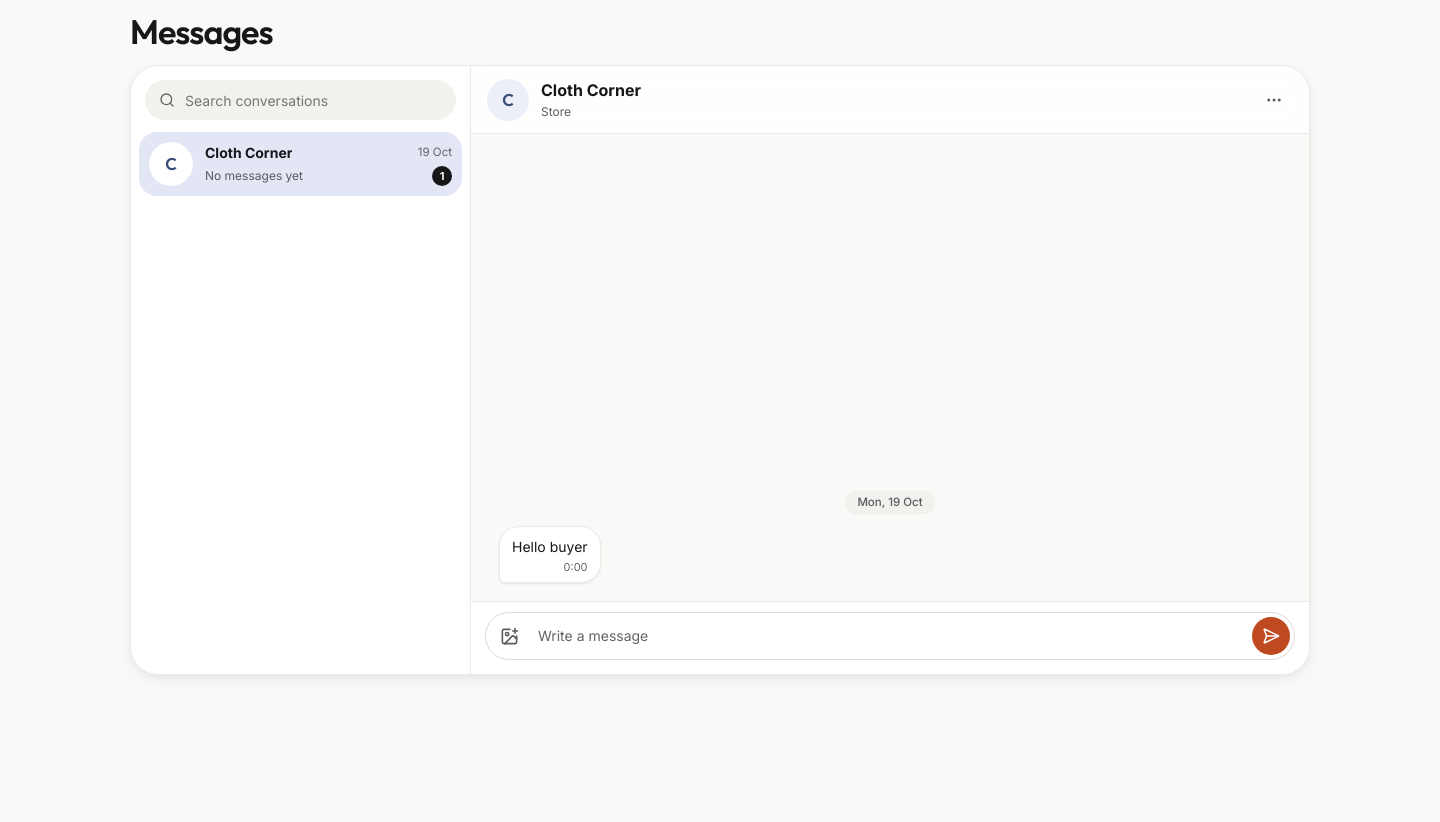
Test: human messages page › sends the typed text with an idempotency key and refreshes the history
Type "Thanks" into the text box with placeholder "Write a message" at (890, 636), box [534,617,1246,655]
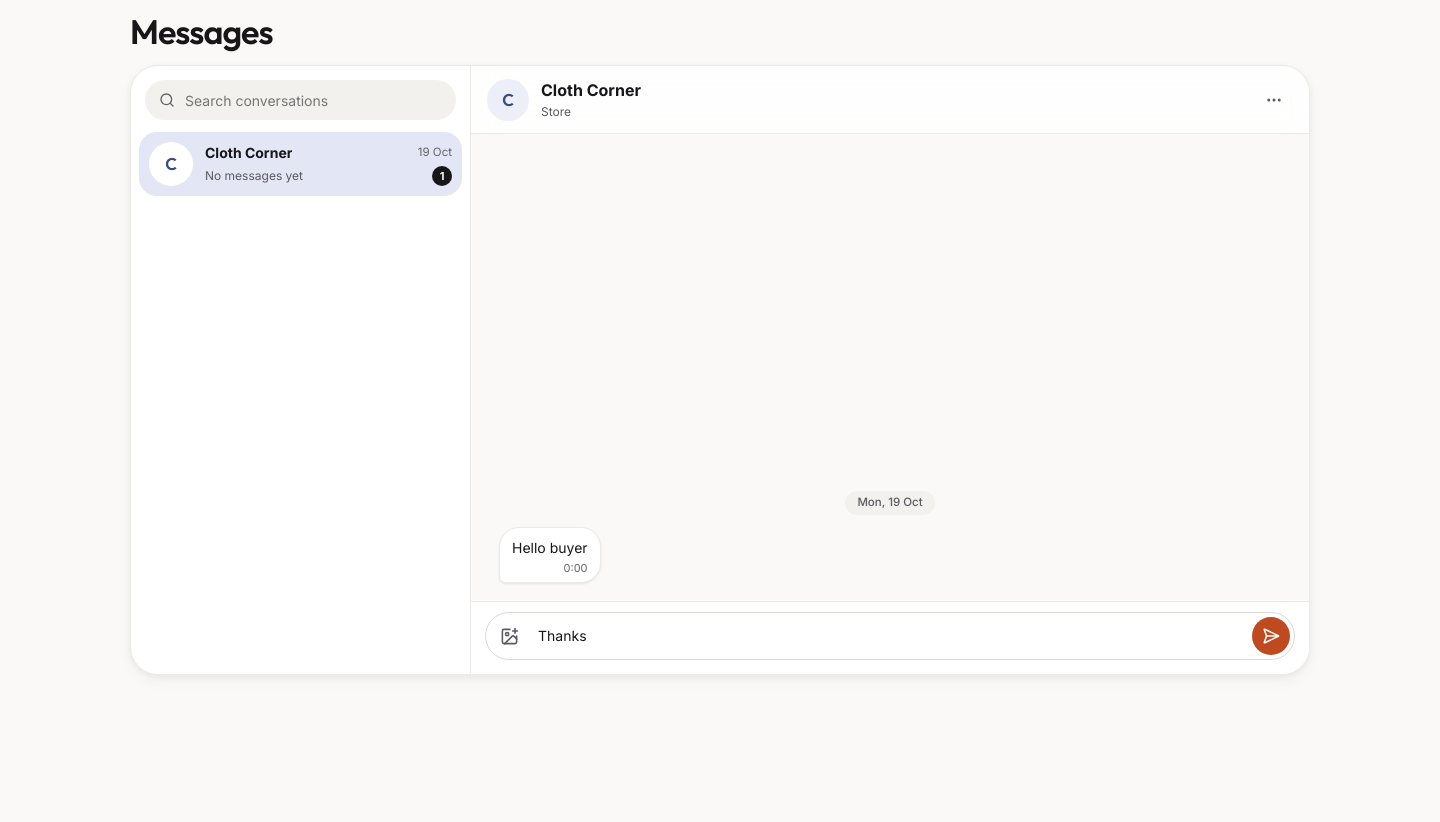
Click the button named "Send" at (1271, 636), box [1252,617,1290,655]
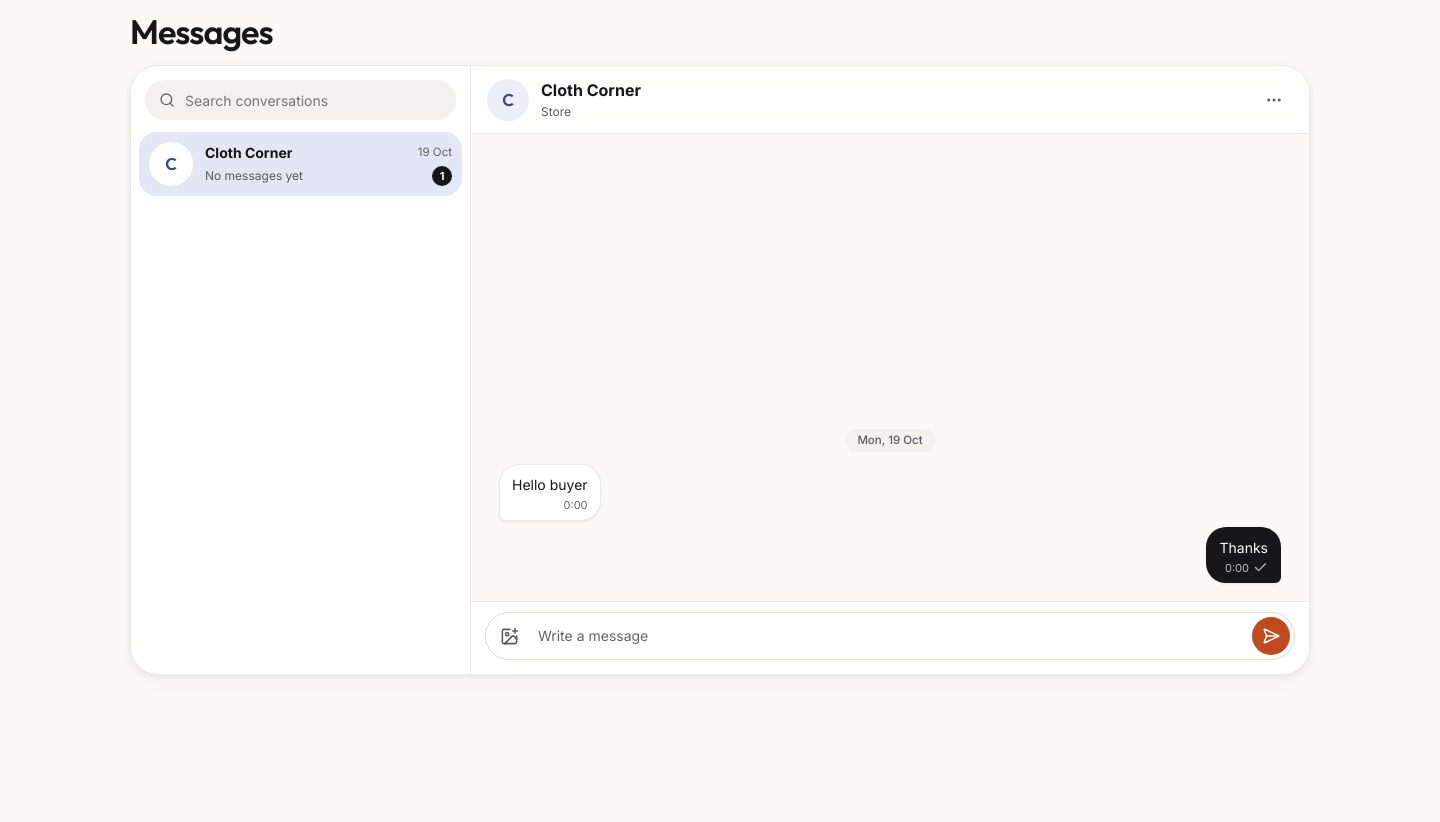
Check: the text "Thanks" is shown, box [1220,537,1268,558]
Check: the element named "Sent" is shown, box [1253,560,1268,575]
